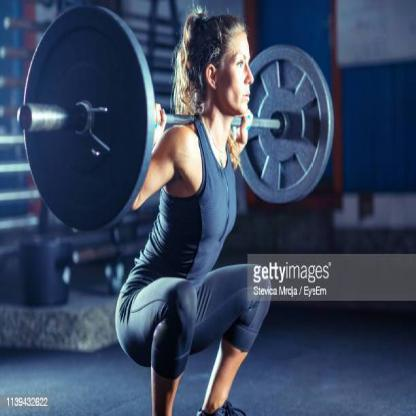Barbell: (12, 0, 162, 249)
